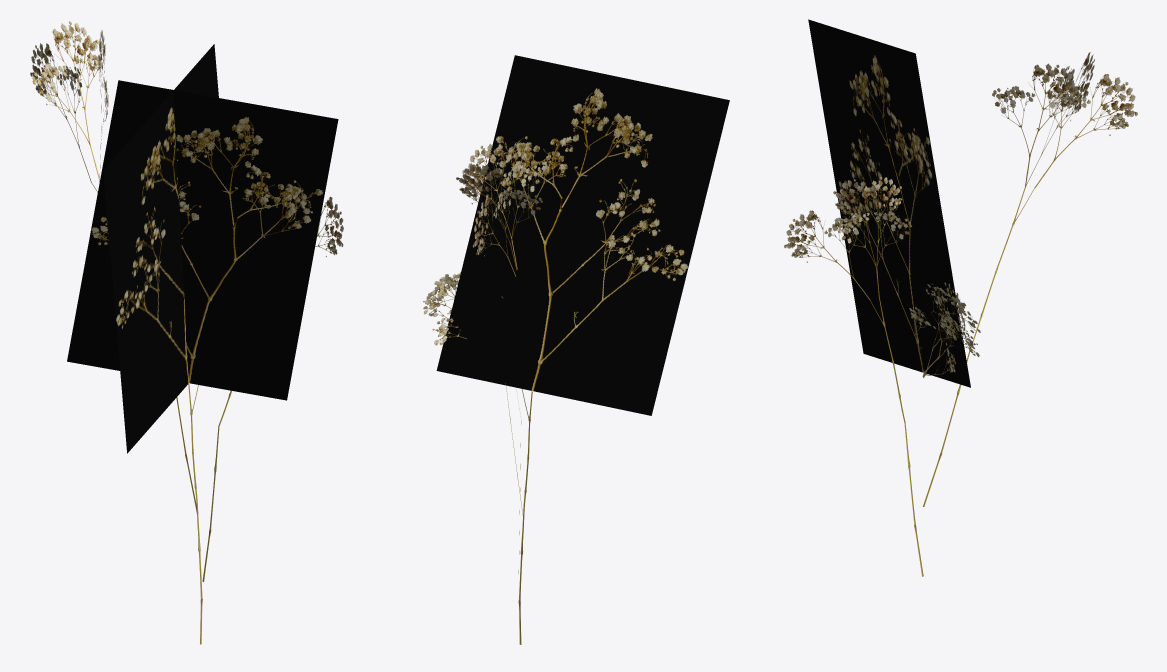
The model's file is babysBreath.glb.
3 views of the same model, side by side, from view 1: azimuth 30°, elevation 25°; view 2: azimuth 150°, elevation 25°; view 3: azimuth 270°, elevation 25° (orthographic). The views are drawn at different scales.
Visible parts, largest first — view 1: Plane.002, Plane.001, Plane.011, Plane.012, Plane.007, Stem 1; view 2: Plane.001, Plane.010, Plane.011, Plane.012, Plane.003, Stem 1; view 3: Plane.001, Plane.010, Plane.012, Plane.007, Plane.006, Plane.003, Plane.009, Plane.004, Plane.011, Stem 3, Stem 2.
Part boxes in pixels (left/top/right/bottom): Plane.002: left=67, top=80, right=338, bottom=400; Plane.001: left=103, top=44, right=218, bottom=453; Plane.011: left=32, top=21, right=102, bottom=181; Plane.012: left=30, top=43, right=91, bottom=181; Plane.007: left=315, top=196, right=343, bottom=257; Stem 1: left=188, top=384, right=202, bottom=644; Plane.001: left=436, top=55, right=729, bottom=415; Plane.010: left=462, top=144, right=541, bottom=269; Plane.011: left=456, top=164, right=542, bottom=270; Plane.012: left=472, top=180, right=515, bottom=276; Plane.003: left=424, top=271, right=466, bottom=345; Stem 1: left=518, top=389, right=532, bottom=644; Plane.001: left=808, top=19, right=970, bottom=387; Plane.010: left=992, top=63, right=1081, bottom=185; Plane.012: left=1034, top=74, right=1137, bottom=187; Plane.007: left=784, top=210, right=870, bottom=299; Plane.006: left=833, top=179, right=912, bottom=295; Plane.003: left=909, top=283, right=980, bottom=377; Plane.009: left=838, top=177, right=902, bottom=295; Plane.004: left=923, top=282, right=966, bottom=377; Plane.011: left=1025, top=52, right=1094, bottom=187; Stem 3: left=923, top=186, right=1034, bottom=506; Stem 2: left=869, top=295, right=923, bottom=576.
Size of the model in its own units: 165 by 353 by 214.
12 materials, 12 textured.
